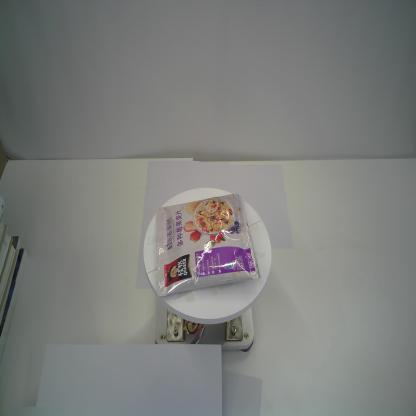Instant Drink: (156, 192, 261, 298)
